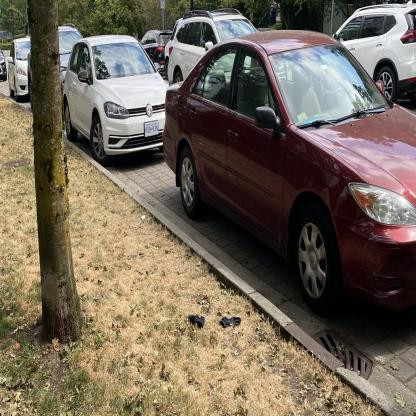License-Plate: (141, 118, 163, 142)
